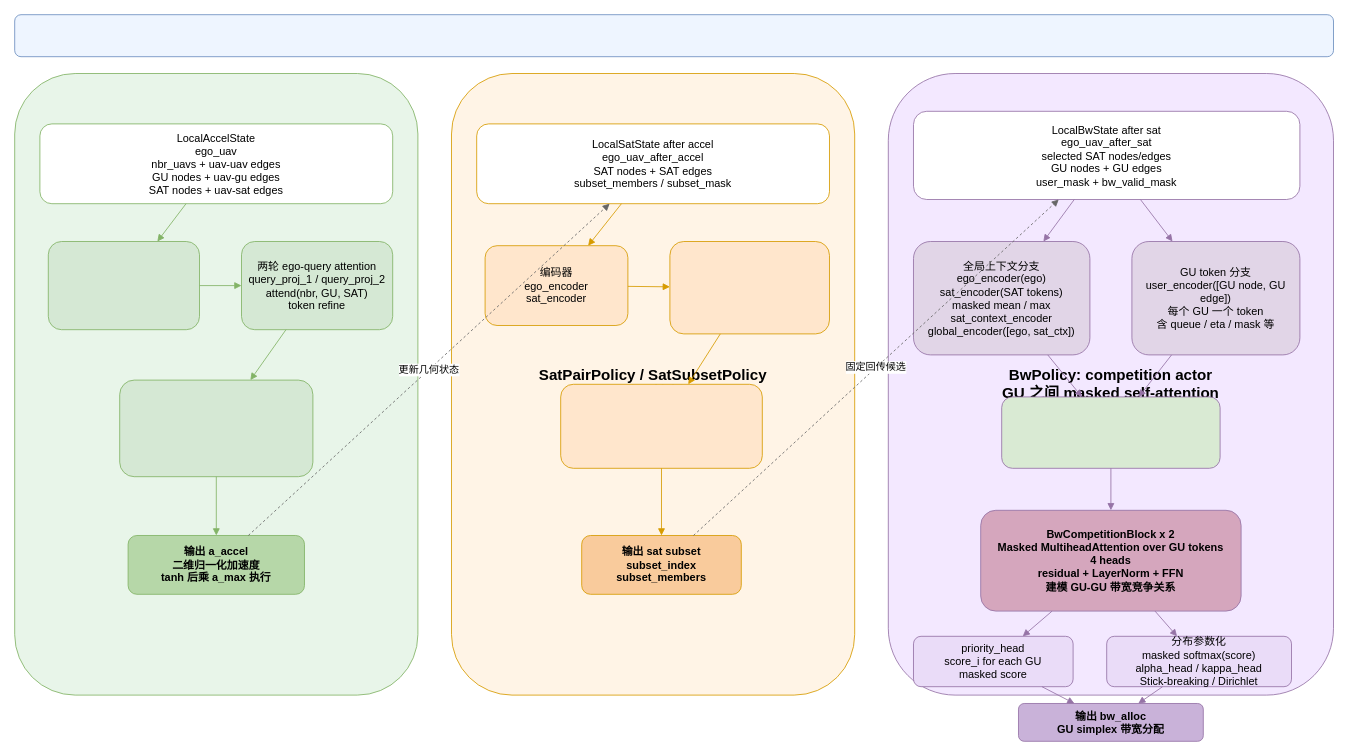
This 1348x756 diagram has some shape labels left out. The shapes that lost their labels are listed below. From the top down, each one's box as (x1, y1, x2, y2) in pixels, then its label:
(14, 14, 1334, 57): 最新 StructuredActor：accel -> sat -> bw 三阶段策略网络
(47, 241, 200, 330): 分块编码器 ego_encoder nbr_encoder gu_encoder sat_encoder
(669, 241, 830, 334): SAT attention + 子集表示 attend(SAT) subset mean subset deviation subset size
(14, 73, 418, 695): AccelPolicy 机动控制
(119, 379, 313, 477): fusion_1 / fusion_2 mu_head: Linear -> 2 log_std: trainable Squashed Gaussian
(560, 383, 762, 468): subset_projector + scorer 对每个合法卫星子集打分 Categorical(logits)
(1001, 396, 1220, 468): user_context_fusion h0_i = MLP([user_i, global_ctx]) 无效 GU token 置零
